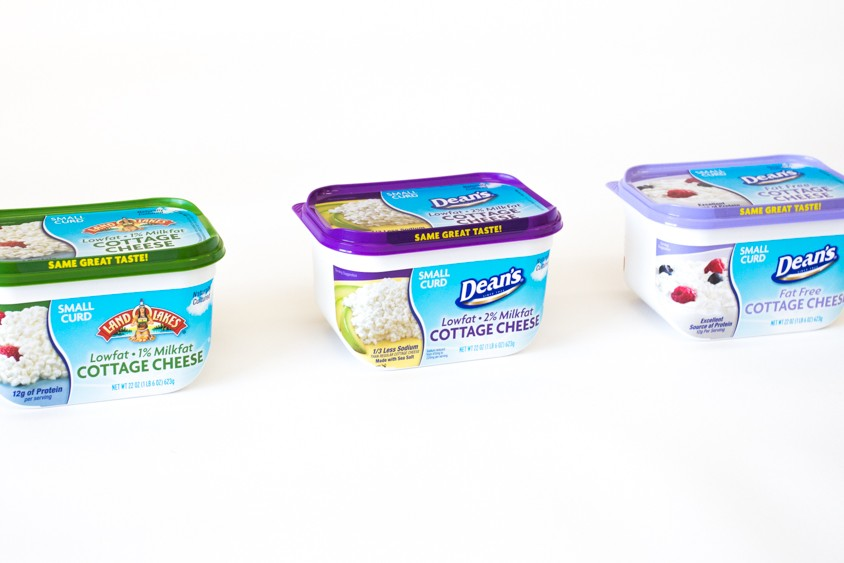PlasticBox: (286, 170, 568, 375)
